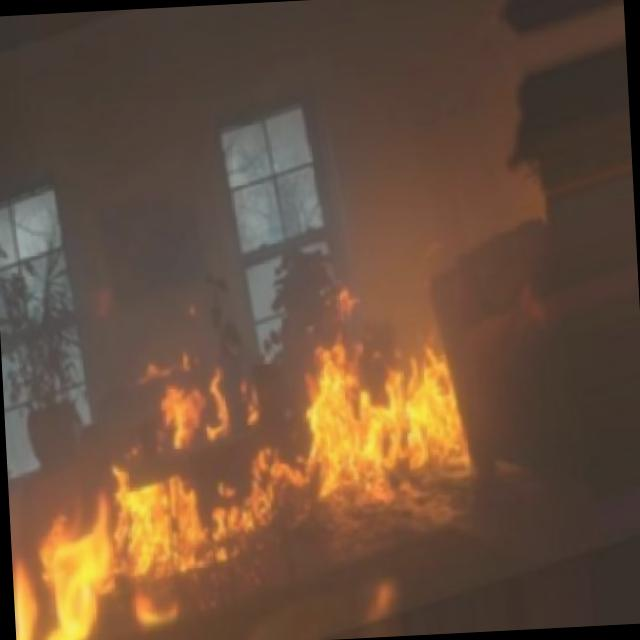fire: (0, 223, 501, 640)
